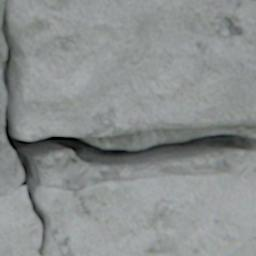brick: (6, 0, 255, 139)
broken_brick: (34, 172, 255, 255), (0, 186, 40, 255)
crack: (1, 0, 255, 255)
